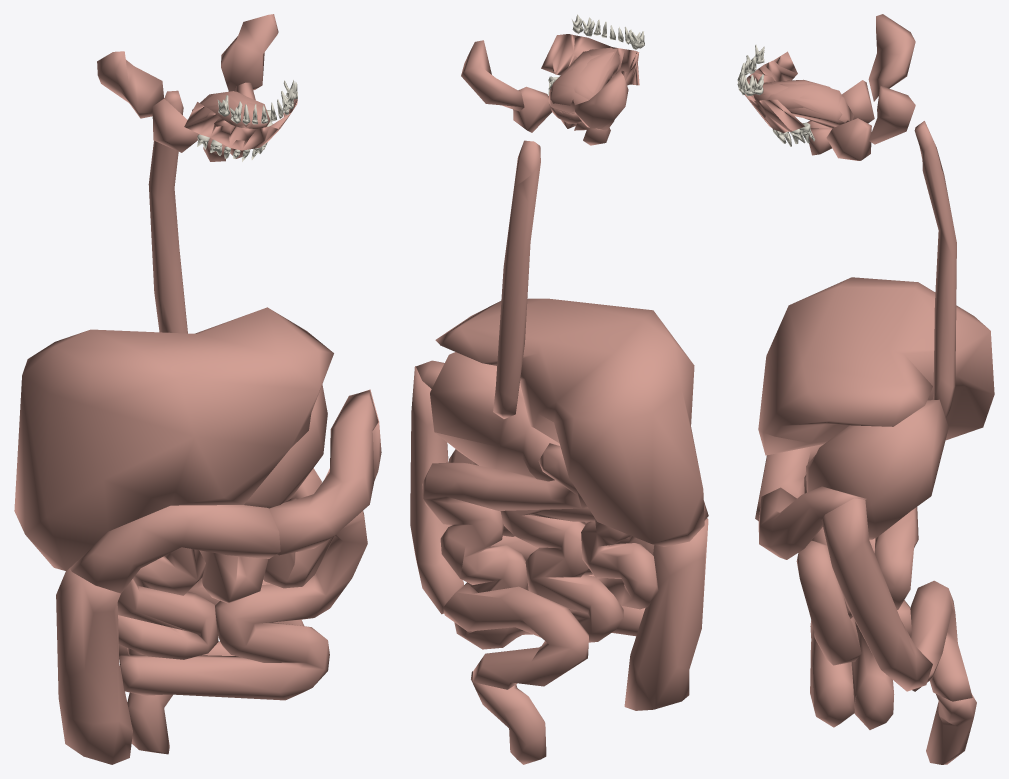
The model's file is pediatric_neonate_male.digestive.LOD3.glb.
3 views of the same model, side by side, from view 1: azimuth 30°, elevation 25°; view 2: azimuth 150°, elevation 25°; view 3: azimuth 270°, elevation 25° (orthographic). The views are drawn at different scales.
Parts seen in each view (by area): view 1: PEDIATRIC.NEONATE.MALE.DIGESTIVE.LIVER, PEDIATRIC.NEONATE.MALE.DIGESTIVE.SMALL_INTESTINE_WALL, PEDIATRIC.NEONATE.MALE.DIGESTIVE.ASCENDING_COLON_WALL, PEDIATRIC.NEONATE.MALE.DIGESTIVE.TRANSVERSE_COLON_WALL.R, PEDIATRIC.NEONATE.MALE.DIGESTIVE.TRANSVERSE_COLON_WALL.L, PEDIATRIC.NEONATE.MALE.DIGESTIVE.OESOPHAGUS_WALL, PEDIATRIC.NEONATE.MALE.DIGESTIVE.SALIVARY_GLANDS.R, PEDIATRIC.NEONATE.MALE.DIGESTIVE.STOMACH_WALL, PEDIATRIC.NEONATE.MALE.DIGESTIVE.SALIVARY_GLANDS.L, PEDIATRIC.NEONATE.MALE.DIGESTIVE.ORAL_MUCOSA_LIP_AND_CHEEKS, PEDIATRIC.NEONATE.MALE.DIGESTIVE.RECTUM_WALL, PEDIATRIC.NEONATE.MALE.DIGESTIVE.DECIDUOUS_CEMENTUM (+4 smaller); view 2: PEDIATRIC.NEONATE.MALE.DIGESTIVE.LIVER, PEDIATRIC.NEONATE.MALE.DIGESTIVE.SMALL_INTESTINE_WALL, PEDIATRIC.NEONATE.MALE.DIGESTIVE.ASCENDING_COLON_WALL, PEDIATRIC.NEONATE.MALE.DIGESTIVE.SIGMOID_COLON_WALL, PEDIATRIC.NEONATE.MALE.DIGESTIVE.STOMACH_WALL, PEDIATRIC.NEONATE.MALE.DIGESTIVE.OESOPHAGUS_WALL, PEDIATRIC.NEONATE.MALE.DIGESTIVE.DESCENDING_COLON_WALL, PEDIATRIC.NEONATE.MALE.DIGESTIVE.SALIVARY_GLANDS.L, PEDIATRIC.NEONATE.MALE.DIGESTIVE.RECTUM_WALL, PEDIATRIC.NEONATE.MALE.DIGESTIVE.SALIVARY_GLANDS.R, PEDIATRIC.NEONATE.MALE.DIGESTIVE.ORAL_MUCOSA_LIP_AND_CHEEKS, PEDIATRIC.NEONATE.MALE.DIGESTIVE.TONGUE_UPPER_FOOD (+2 smaller); view 3: PEDIATRIC.NEONATE.MALE.DIGESTIVE.LIVER, PEDIATRIC.NEONATE.MALE.DIGESTIVE.SMALL_INTESTINE_WALL, PEDIATRIC.NEONATE.MALE.DIGESTIVE.STOMACH_WALL, PEDIATRIC.NEONATE.MALE.DIGESTIVE.DESCENDING_COLON_WALL, PEDIATRIC.NEONATE.MALE.DIGESTIVE.OESOPHAGUS_WALL, PEDIATRIC.NEONATE.MALE.DIGESTIVE.SIGMOID_COLON_WALL, PEDIATRIC.NEONATE.MALE.DIGESTIVE.TRANSVERSE_COLON_WALL.L, PEDIATRIC.NEONATE.MALE.DIGESTIVE.SALIVARY_GLANDS.L, PEDIATRIC.NEONATE.MALE.DIGESTIVE.SALIVARY_GLANDS.R, PEDIATRIC.NEONATE.MALE.DIGESTIVE.RECTUM_WALL, PEDIATRIC.NEONATE.MALE.DIGESTIVE.TRANSVERSE_COLON_WALL.R, PEDIATRIC.NEONATE.MALE.DIGESTIVE.ORAL_MUCOSA_LIP_AND_CHEEKS (+4 smaller).
Boxes of the visible parts, x1,y1,x2,y2 form: PEDIATRIC.NEONATE.MALE.DIGESTIVE.LIVER: [14, 307, 333, 571]; PEDIATRIC.NEONATE.MALE.DIGESTIVE.SMALL_INTESTINE_WALL: [117, 468, 367, 700]; PEDIATRIC.NEONATE.MALE.DIGESTIVE.ASCENDING_COLON_WALL: [56, 568, 132, 764]; PEDIATRIC.NEONATE.MALE.DIGESTIVE.TRANSVERSE_COLON_WALL.R: [70, 505, 280, 593]; PEDIATRIC.NEONATE.MALE.DIGESTIVE.TRANSVERSE_COLON_WALL.L: [269, 390, 378, 555]; PEDIATRIC.NEONATE.MALE.DIGESTIVE.OESOPHAGUS_WALL: [148, 90, 187, 333]; PEDIATRIC.NEONATE.MALE.DIGESTIVE.SALIVARY_GLANDS.R: [97, 51, 226, 161]; PEDIATRIC.NEONATE.MALE.DIGESTIVE.STOMACH_WALL: [244, 384, 327, 508]; PEDIATRIC.NEONATE.MALE.DIGESTIVE.SALIVARY_GLANDS.L: [221, 14, 278, 158]; PEDIATRIC.NEONATE.MALE.DIGESTIVE.ORAL_MUCOSA_LIP_AND_CHEEKS: [184, 98, 297, 150]; PEDIATRIC.NEONATE.MALE.DIGESTIVE.RECTUM_WALL: [127, 692, 172, 754]; PEDIATRIC.NEONATE.MALE.DIGESTIVE.DECIDUOUS_CEMENTUM: [197, 80, 297, 161]; PEDIATRIC.NEONATE.MALE.DIGESTIVE.LIVER: [435, 298, 704, 546]; PEDIATRIC.NEONATE.MALE.DIGESTIVE.SMALL_INTESTINE_WALL: [422, 443, 658, 649]; PEDIATRIC.NEONATE.MALE.DIGESTIVE.ASCENDING_COLON_WALL: [624, 518, 708, 710]; PEDIATRIC.NEONATE.MALE.DIGESTIVE.SIGMOID_COLON_WALL: [443, 583, 588, 689]; PEDIATRIC.NEONATE.MALE.DIGESTIVE.STOMACH_WALL: [430, 352, 560, 481]; PEDIATRIC.NEONATE.MALE.DIGESTIVE.OESOPHAGUS_WALL: [493, 140, 540, 418]; PEDIATRIC.NEONATE.MALE.DIGESTIVE.DESCENDING_COLON_WALL: [410, 366, 464, 614]; PEDIATRIC.NEONATE.MALE.DIGESTIVE.SALIVARY_GLANDS.L: [461, 40, 576, 132]; PEDIATRIC.NEONATE.MALE.DIGESTIVE.RECTUM_WALL: [471, 671, 546, 764]; PEDIATRIC.NEONATE.MALE.DIGESTIVE.SALIVARY_GLANDS.R: [574, 70, 628, 145]; PEDIATRIC.NEONATE.MALE.DIGESTIVE.ORAL_MUCOSA_LIP_AND_CHEEKS: [541, 34, 639, 85]; PEDIATRIC.NEONATE.MALE.DIGESTIVE.TONGUE_UPPER_FOOD: [550, 47, 615, 113]; PEDIATRIC.NEONATE.MALE.DIGESTIVE.LIVER: [758, 277, 994, 455]; PEDIATRIC.NEONATE.MALE.DIGESTIVE.SMALL_INTESTINE_WALL: [796, 474, 918, 729]; PEDIATRIC.NEONATE.MALE.DIGESTIVE.STOMACH_WALL: [806, 399, 948, 539]; PEDIATRIC.NEONATE.MALE.DIGESTIVE.DESCENDING_COLON_WALL: [821, 498, 932, 691]; PEDIATRIC.NEONATE.MALE.DIGESTIVE.OESOPHAGUS_WALL: [914, 121, 956, 417]; PEDIATRIC.NEONATE.MALE.DIGESTIVE.SIGMOID_COLON_WALL: [910, 580, 972, 701]; PEDIATRIC.NEONATE.MALE.DIGESTIVE.TRANSVERSE_COLON_WALL.L: [758, 486, 866, 559]; PEDIATRIC.NEONATE.MALE.DIGESTIVE.SALIVARY_GLANDS.L: [809, 85, 915, 160]; PEDIATRIC.NEONATE.MALE.DIGESTIVE.SALIVARY_GLANDS.R: [807, 14, 915, 128]; PEDIATRIC.NEONATE.MALE.DIGESTIVE.RECTUM_WALL: [926, 694, 976, 764]; PEDIATRIC.NEONATE.MALE.DIGESTIVE.TRANSVERSE_COLON_WALL.R: [755, 444, 823, 521]; PEDIATRIC.NEONATE.MALE.DIGESTIVE.ORAL_MUCOSA_LIP_AND_CHEEKS: [745, 51, 804, 132].
Bounding box in the file's own units: 0.1167 × 0.254 × 0.0827.
